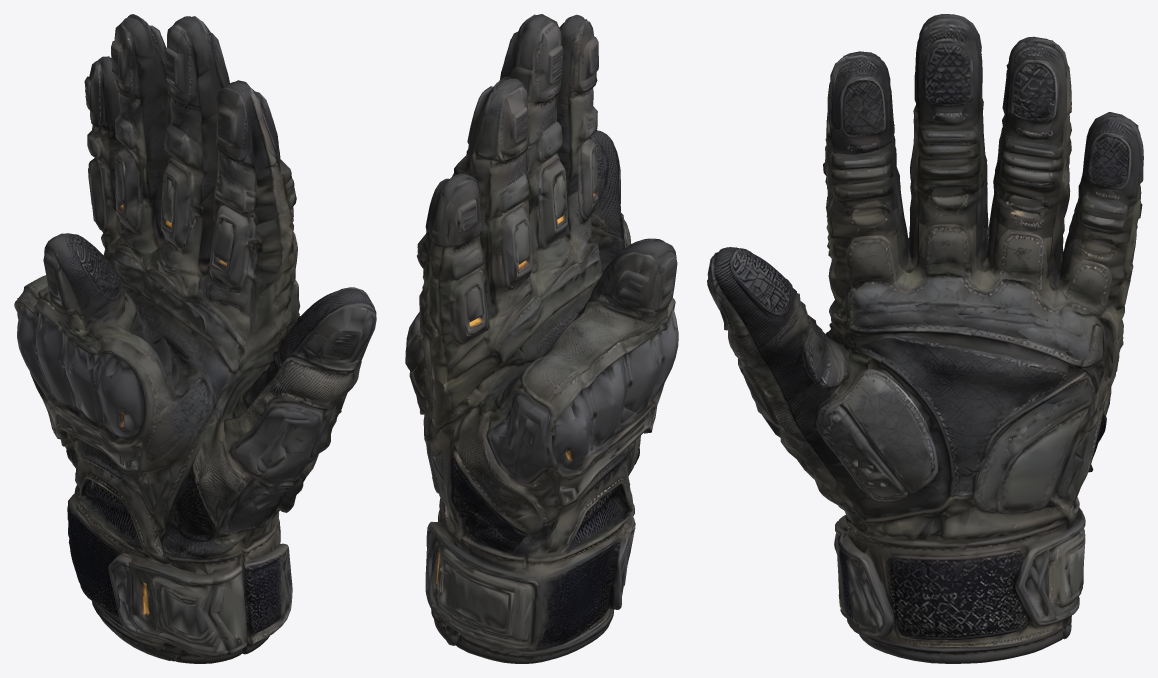
The model's file is tactical-glove-mirrored-v1.glb.
The picture shows the model from 3 angles, left to right: view 1: azimuth 30°, elevation 25°; view 2: azimuth 150°, elevation 25°; view 3: azimuth 270°, elevation 25°; orthographic projection. The views are drawn at different scales.
Visible parts, largest first — view 1: tripo_node_841be059-a3bf-43cf-9ad0-e4a3706b39a3; view 2: tripo_node_841be059-a3bf-43cf-9ad0-e4a3706b39a3; view 3: tripo_node_841be059-a3bf-43cf-9ad0-e4a3706b39a3.
Boxes of the visible parts, left/top/right/bottom form: tripo_node_841be059-a3bf-43cf-9ad0-e4a3706b39a3: left=14, top=14, right=376, bottom=663; tripo_node_841be059-a3bf-43cf-9ad0-e4a3706b39a3: left=405, top=14, right=678, bottom=663; tripo_node_841be059-a3bf-43cf-9ad0-e4a3706b39a3: left=707, top=14, right=1143, bottom=663.
Size of the model in its own units: 0.0996 by 0.26 by 0.1646.
Materials: 1 (1 with a texture image).
